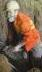gloves: (11, 44, 23, 52)
hard-hat: (3, 0, 18, 12)
ppe-suit: (0, 0, 1, 1)
